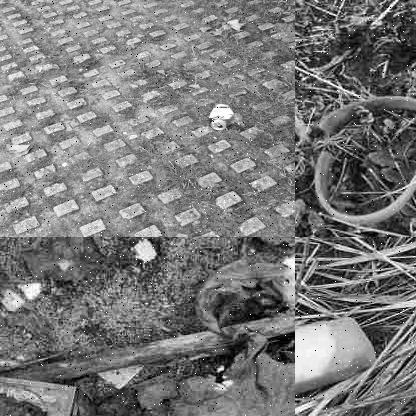metal: (201, 101, 241, 134)
plastic: (311, 91, 415, 223), (295, 320, 378, 395), (0, 373, 77, 415)
